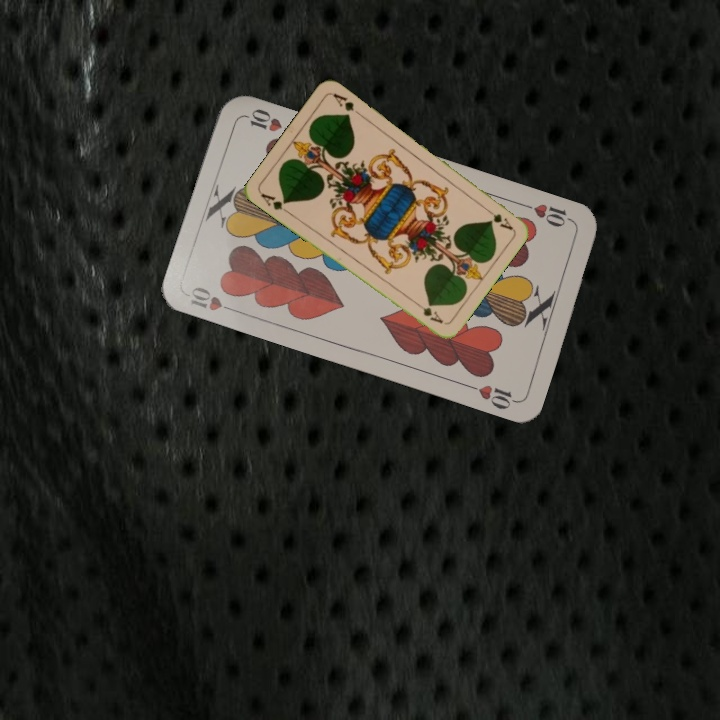GA: (480, 203, 515, 233), (257, 189, 293, 217)
H10: (186, 282, 241, 316), (518, 199, 576, 230)
